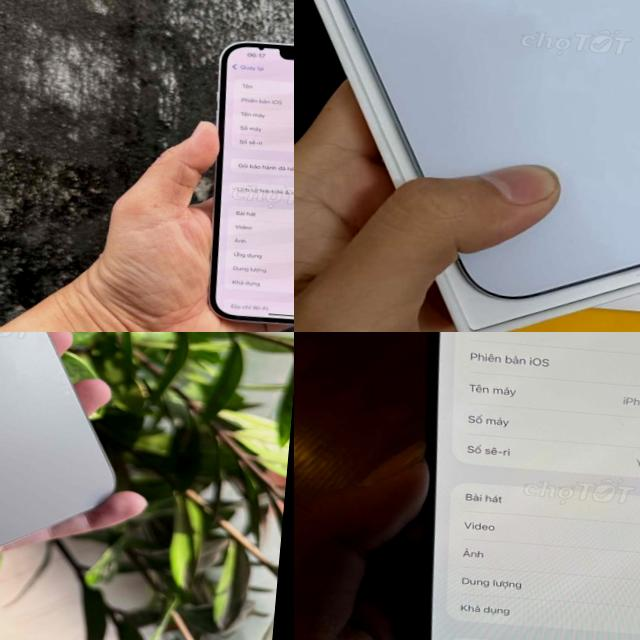screen_defect: (250, 39, 281, 62)
